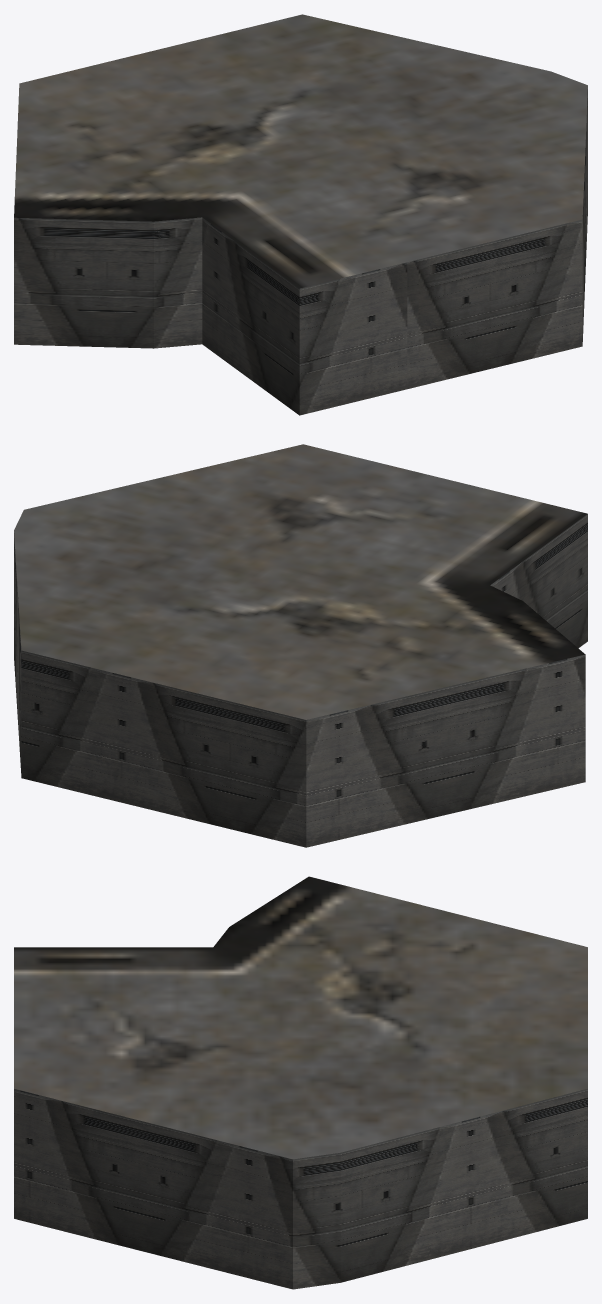
File: fortress_light_66.glb
The picture shows the model from 3 angles, top to bottom: view 1: azimuth 30°, elevation 25°; view 2: azimuth 150°, elevation 25°; view 3: azimuth 270°, elevation 25°; orthographic projection. The views are drawn at different scales.
Visible parts, largest first — view 1: buildings/saxarba/fortress_light/fortress_light_66; view 2: buildings/saxarba/fortress_light/fortress_light_66; view 3: buildings/saxarba/fortress_light/fortress_light_66.
Boxes of the visible parts, <box> form: buildings/saxarba/fortress_light/fortress_light_66: <box>14,14,587,415</box>; buildings/saxarba/fortress_light/fortress_light_66: <box>14,444,587,847</box>; buildings/saxarba/fortress_light/fortress_light_66: <box>14,876,587,1289</box>.
Bounding box in the file's own units: 84 × 18 × 72.
